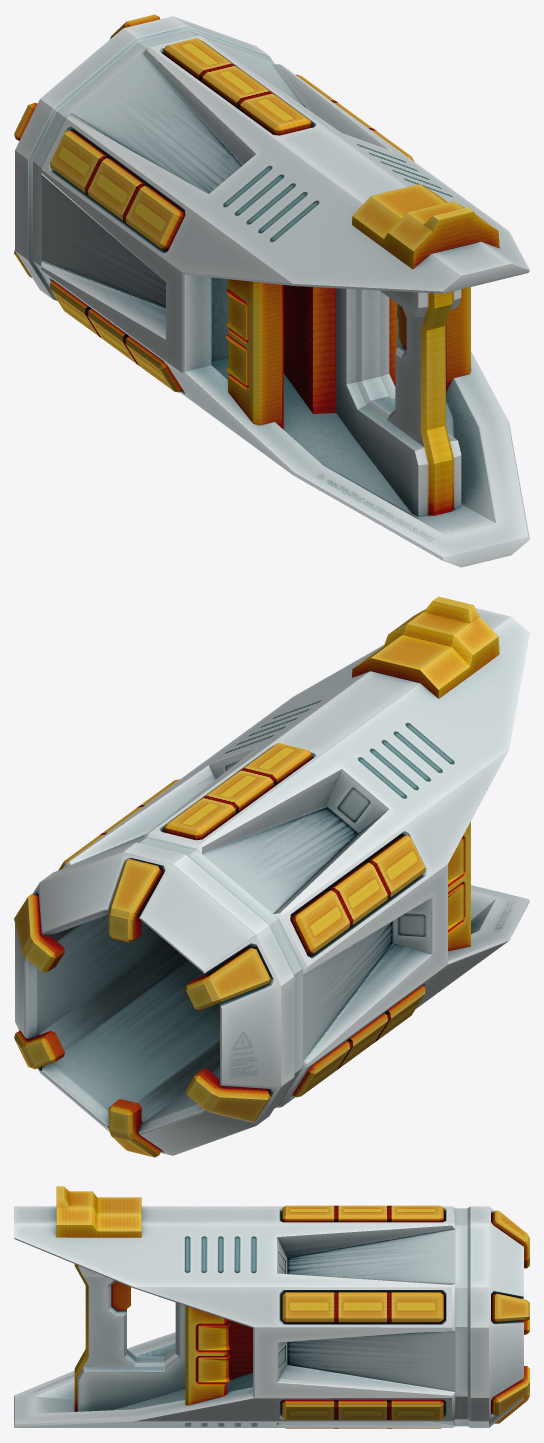
Rendered from bGUN03h.obj.
The picture shows the model from 3 angles, top to bottom: view 1: azimuth 30°, elevation 25°; view 2: azimuth 150°, elevation 25°; view 3: azimuth 270°, elevation 25°; orthographic projection. The views are drawn at different scales.
Visible parts, largest first — view 1: bGUN03_BFG_geomU3D1; view 2: bGUN03_BFG_geomU3D1; view 3: bGUN03_BFG_geomU3D1.
Boxes of the visible parts, x1,y1,x2,y2 form: bGUN03_BFG_geomU3D1: (14, 14, 529, 567); bGUN03_BFG_geomU3D1: (14, 596, 529, 1157); bGUN03_BFG_geomU3D1: (14, 1186, 529, 1428).
Bounding box in the file's own units: 0.0931 × 0.1101 × 0.2226.
